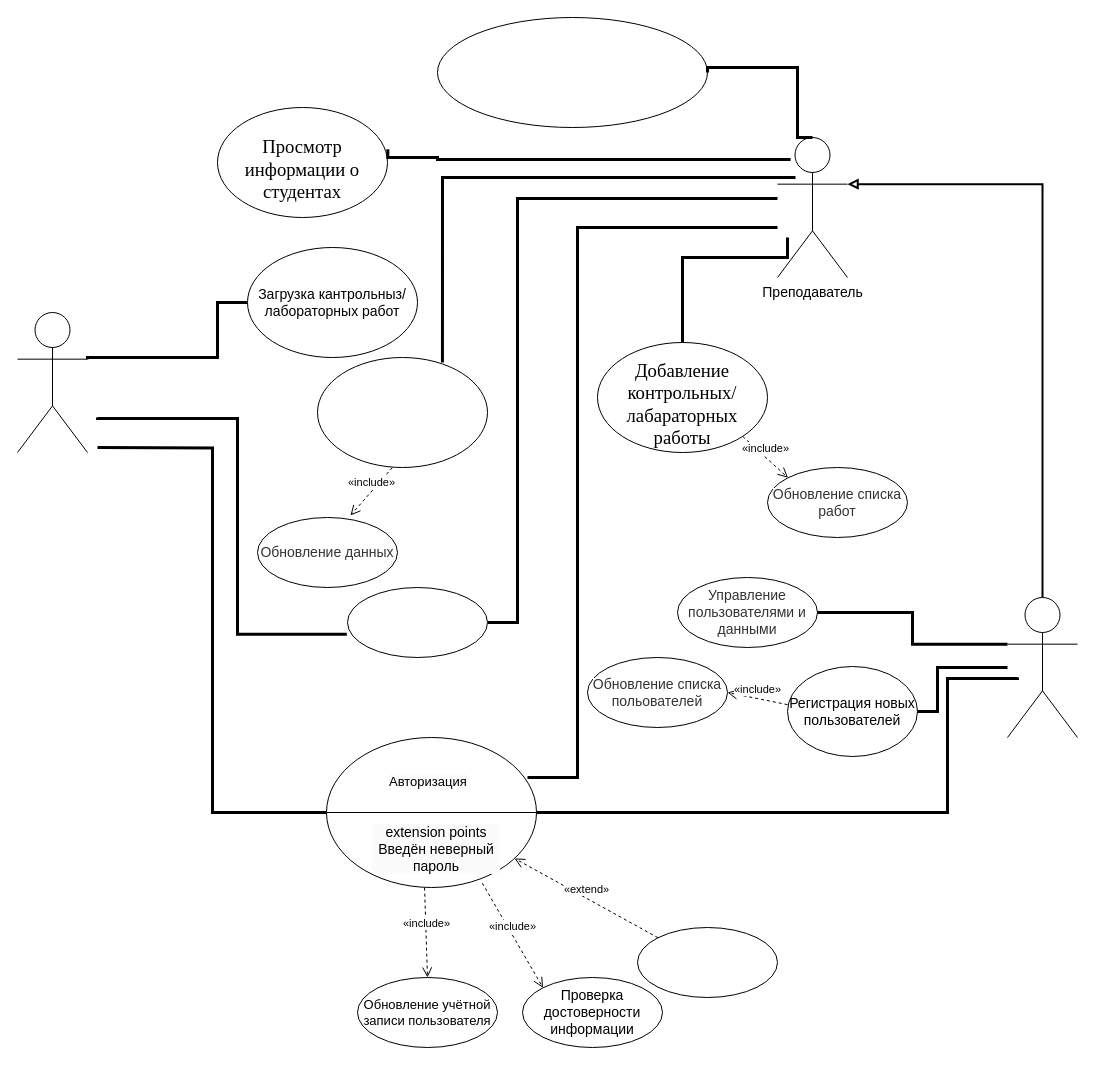
The diagram is 1110 pixels wide and 1065 high, and some of its shapes have lost their labels. The centre of each missing label's shape, as x and y in pixels:
"Администратор" goes at point (1042, 667).
"Вывести ошибку на неверный пароль" goes at point (707, 962).
"Оценка контрольных/лабараторных работы" goes at point (402, 412).
"Просмотр профиля" goes at point (417, 622).
"Студент" goes at point (52, 382).
"Управление расписанием контрольных и лабораторных работ" goes at point (572, 72).
